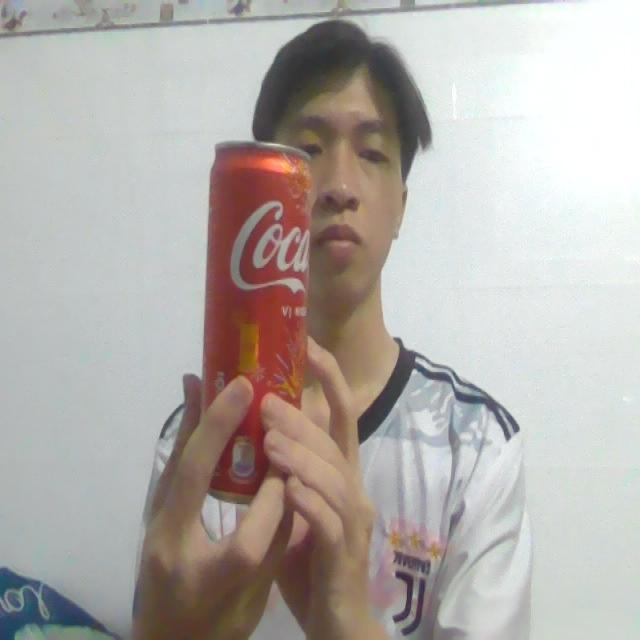cocacola: (198, 141, 318, 511)
